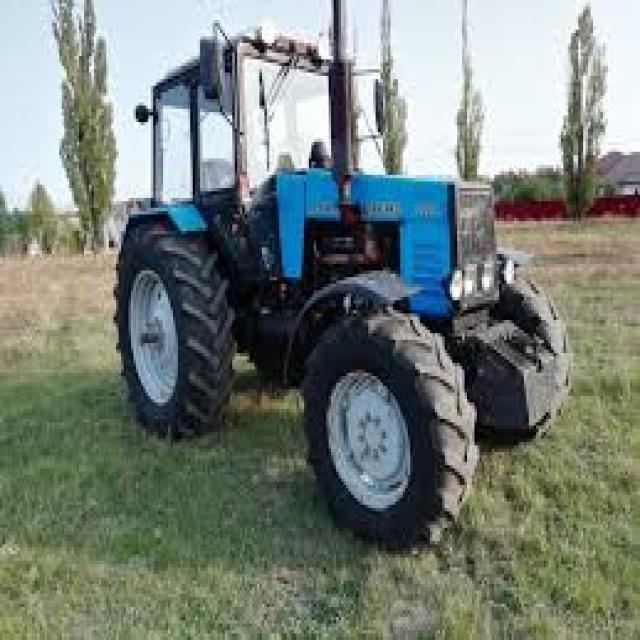Tratores - v5 YOLO V8L 2024-11-13: (109, 25, 592, 547)
